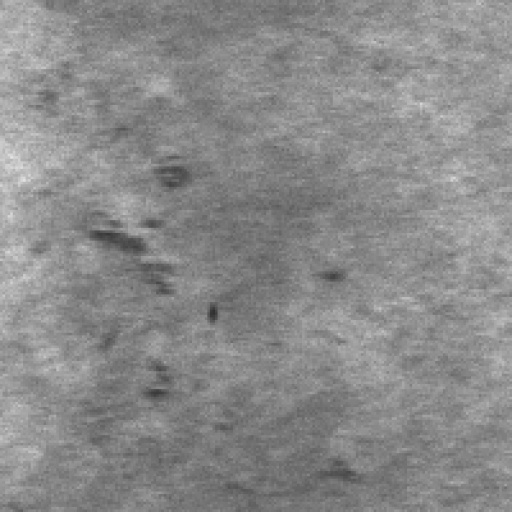rolled_in_scale: (66, 142, 236, 415)
